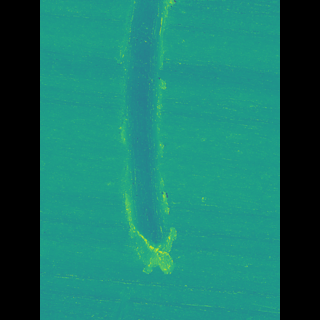Loch: (125, 0, 173, 277)
